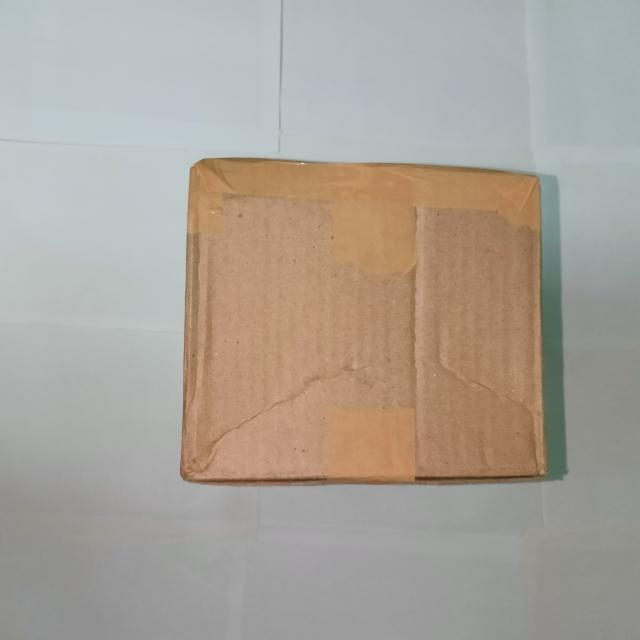box: (184, 171, 545, 478)
